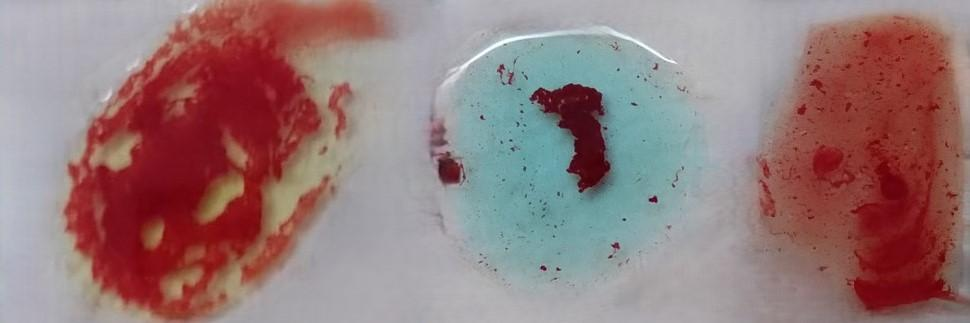A: (443, 32, 679, 294)
B: (83, 20, 310, 315)
D: (770, 20, 953, 323)
